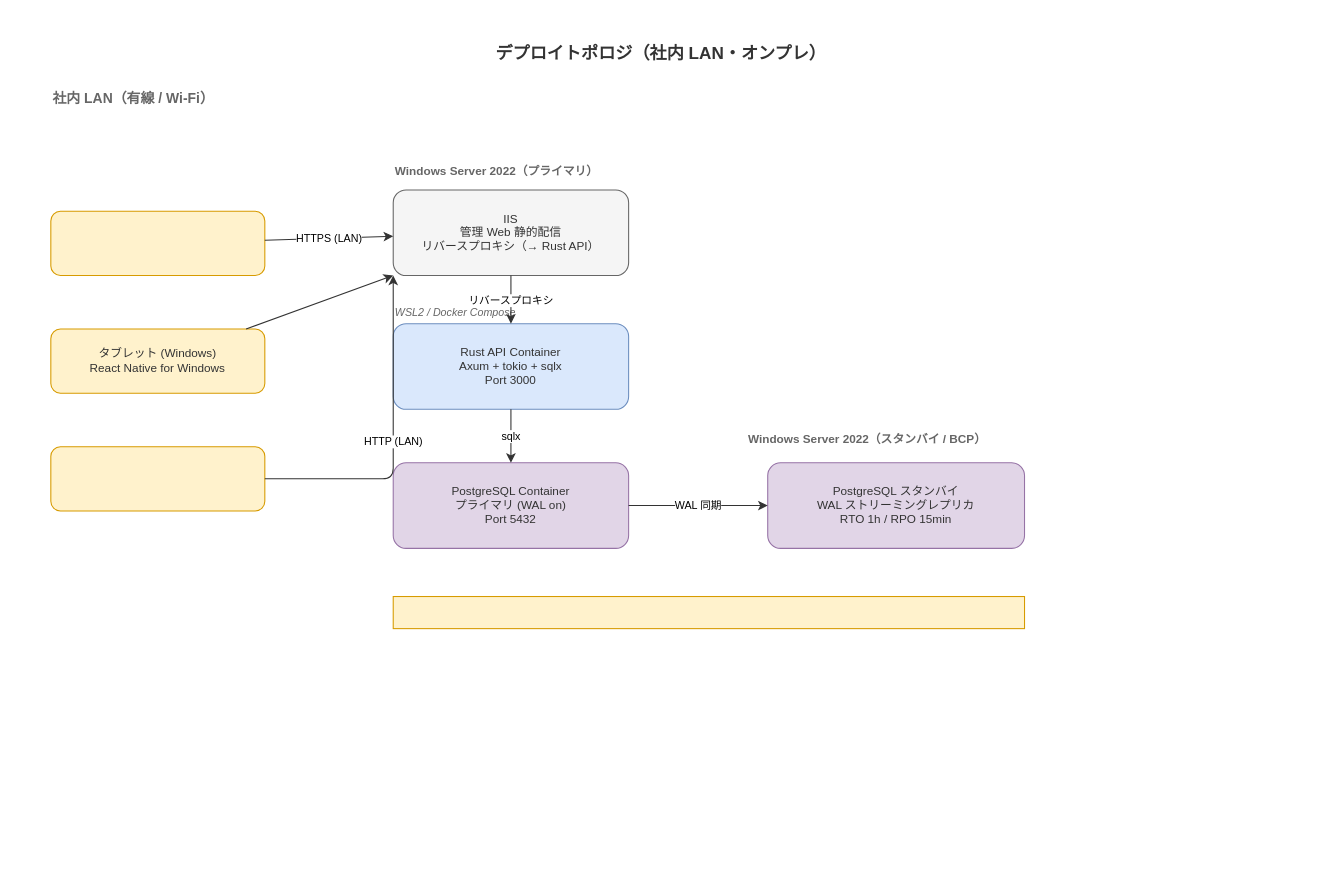
The diagram is 1320 pixels wide and 892 high, and some of its shapes have lost their labels. Each missing label, with the centre of its shape:
"Emergency Mode: 接続断時はローカルキャッシュで継続。復旧後に自動同期。" belongs at [708,612].
"PC 管理端末 管理 Web（ブラウザ）" belongs at [157,478].
"タブレット (Android) React Native / expo-sqlite" belongs at [157,243].
